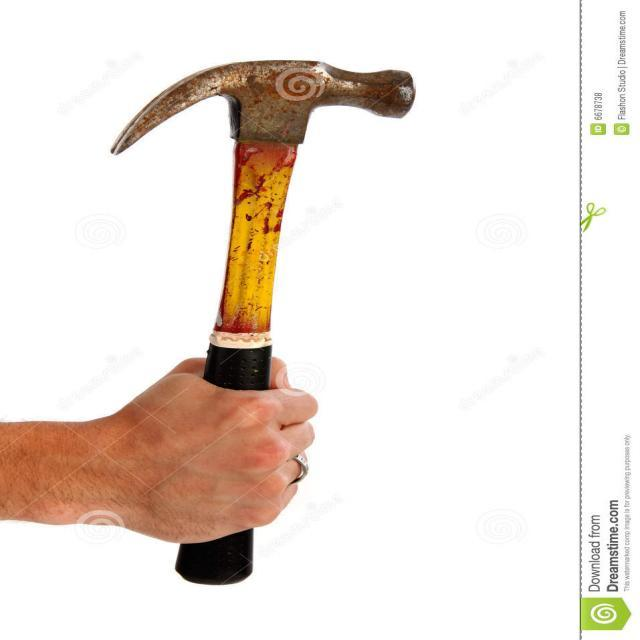hammer: (101, 55, 422, 590)
